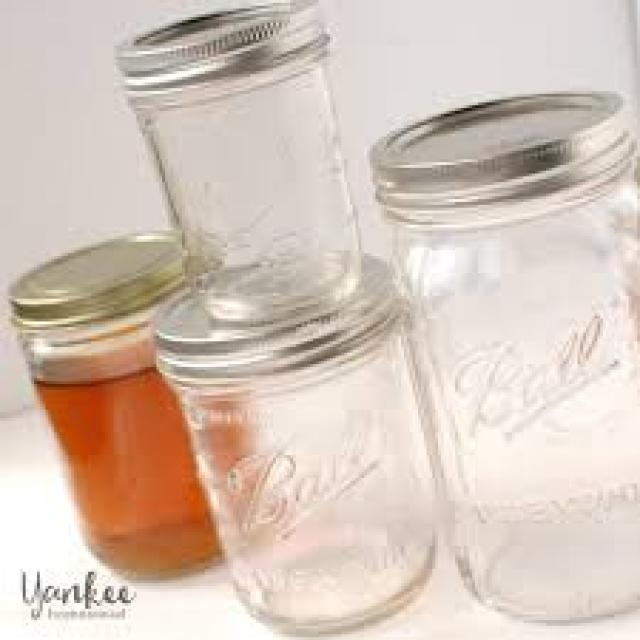organic waste: (28, 333, 214, 572)
